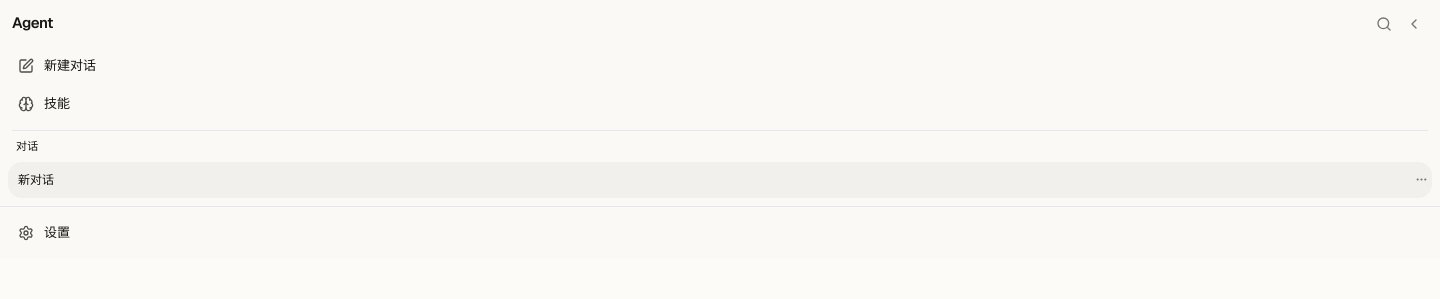
Scenario: SessionSidebar › shows 'no matching' when search has no results
Click the button named "Search sessions".
click(1384, 24)  # box [1370,10,1398,38]
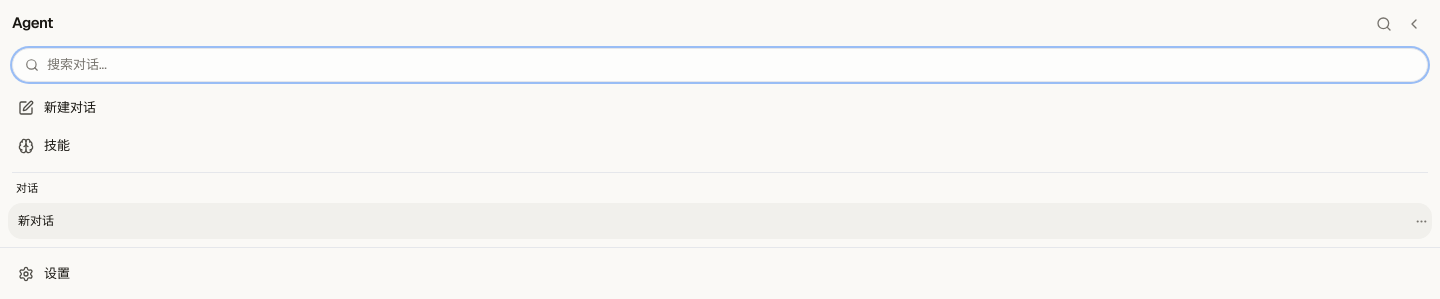
Type "xyz" into the field with placeholder "搜索对话...".
click(731, 65); type("xyz")  # box [47,55,1415,74]
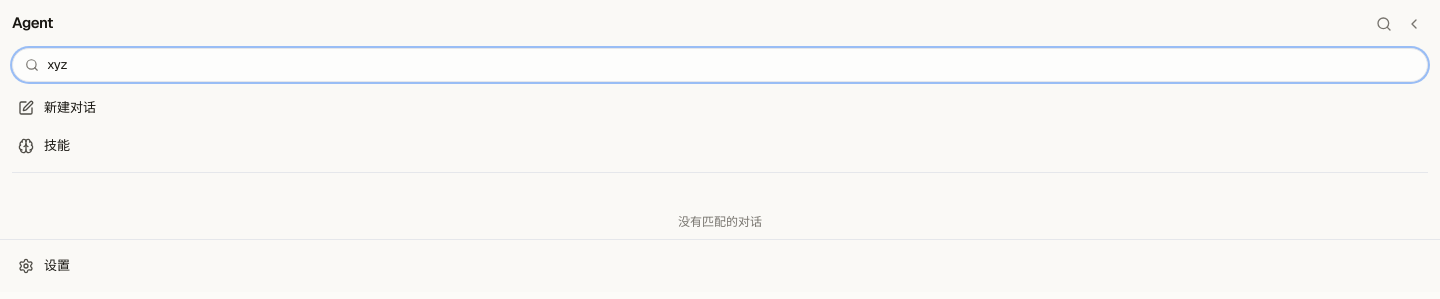
Result: the text "没有匹配的对话" is shown at [678,214,762,230]
